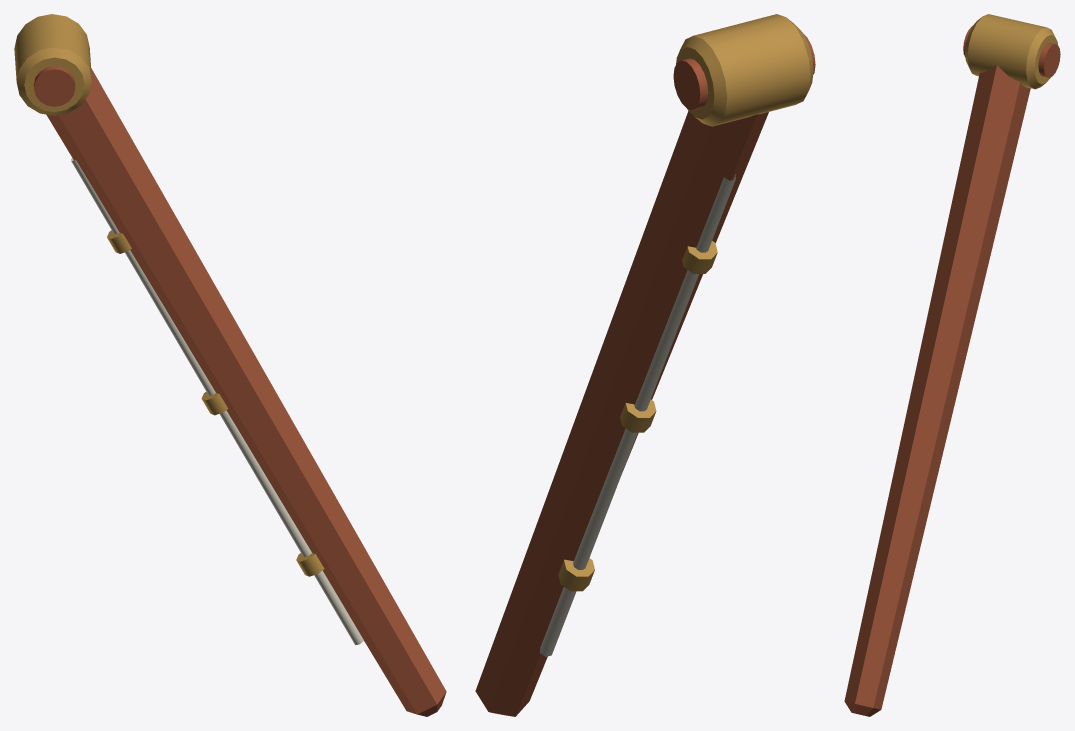
Rendered from rm2_leg_fl_tibia.obj.
3 renders of one model, left to right at view 1: azimuth 30°, elevation 25°; view 2: azimuth 150°, elevation 25°; view 3: azimuth 270°, elevation 25°, orthographic. The views are drawn at different scales.
Visible parts, largest first — view 1: rm2_leg_fl_tibia; view 2: rm2_leg_fl_tibia; view 3: rm2_leg_fl_tibia.
Boxes of the visible parts, bbox=[...] form: rm2_leg_fl_tibia: bbox=[14, 14, 446, 716]; rm2_leg_fl_tibia: bbox=[475, 14, 815, 716]; rm2_leg_fl_tibia: bbox=[844, 14, 1060, 716].
Bounding box in the file's own units: 0.4226 × 0.8056 × 0.2731.
